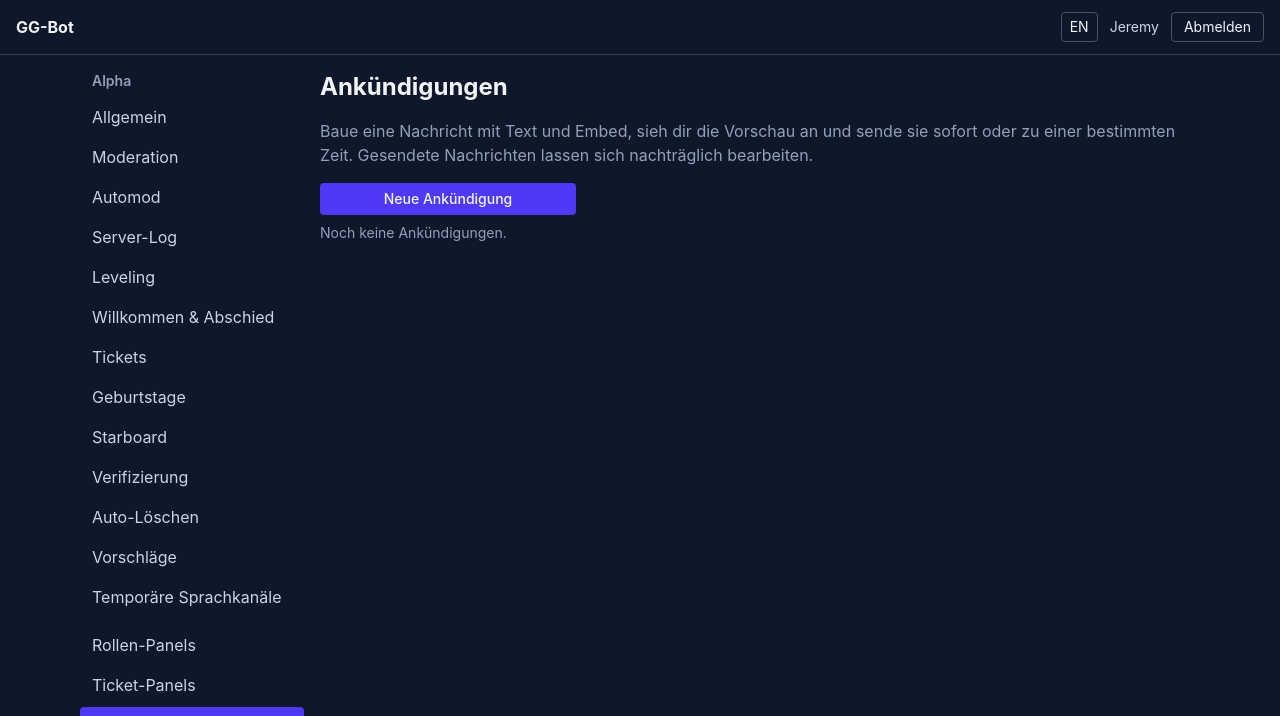
Ankündigungen › sendet ohne Embed, wenn nichts eingetragen ist
The image size is (1280, 716).
Expected: the text "Noch keine Ankündigungen." is shown, [320,224,507,241]
Click the button "Neue Ankündigung" at (448, 199), box [320,183,576,215]
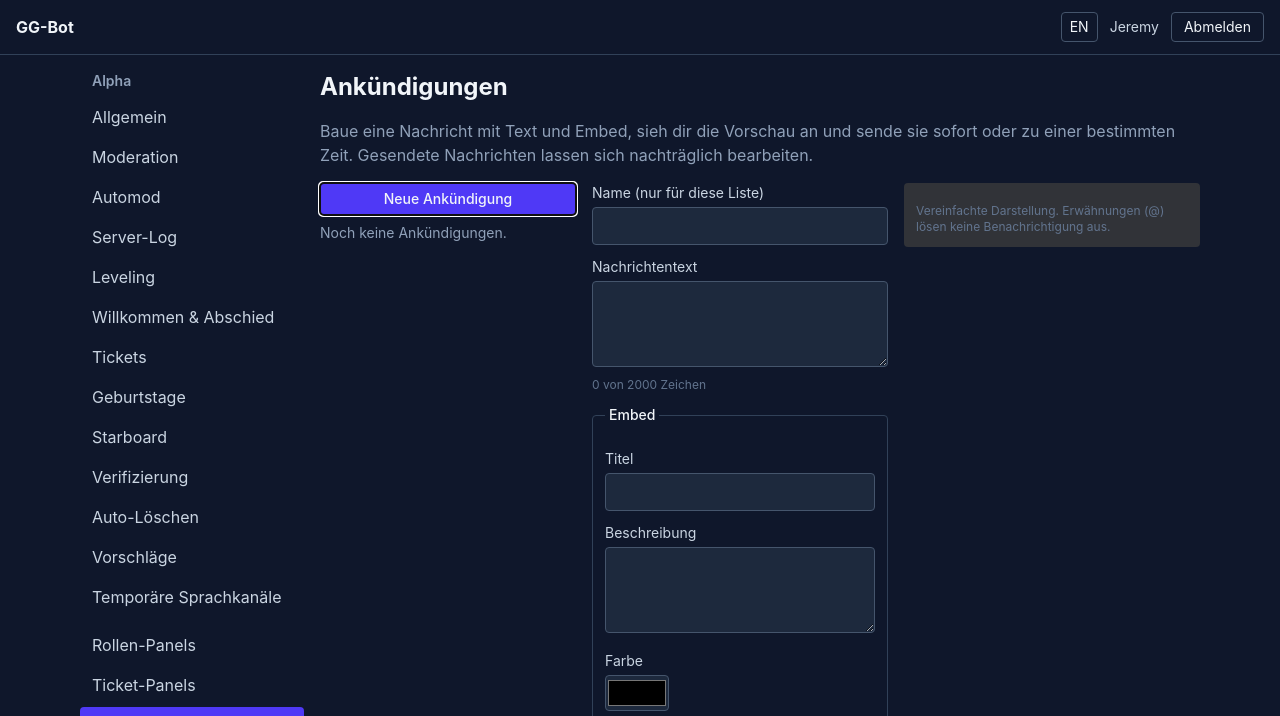
Type "Kurz" into the field labelled "Name (nur für diese Liste)" at (740, 226), box [592,207,888,245]
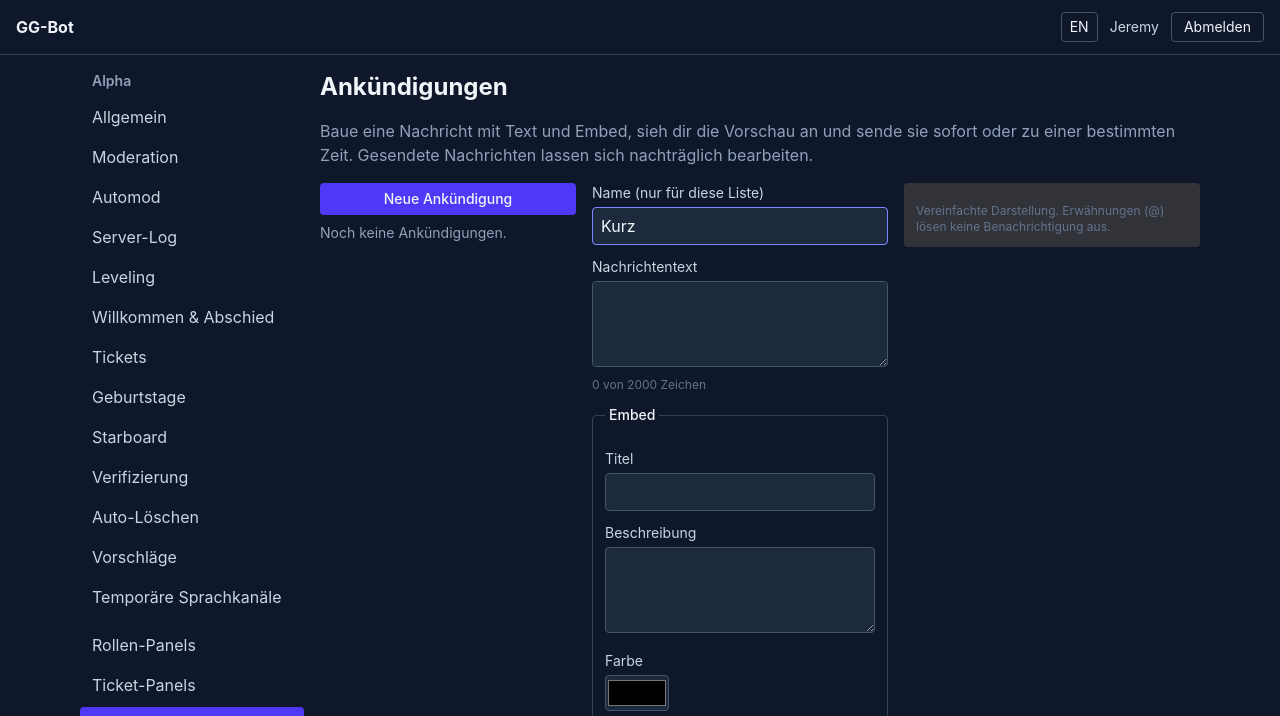
Type "Nur Text" into the text box labelled "Nachrichtentext" at (740, 324), box [592,281,888,367]
(page scrolled)
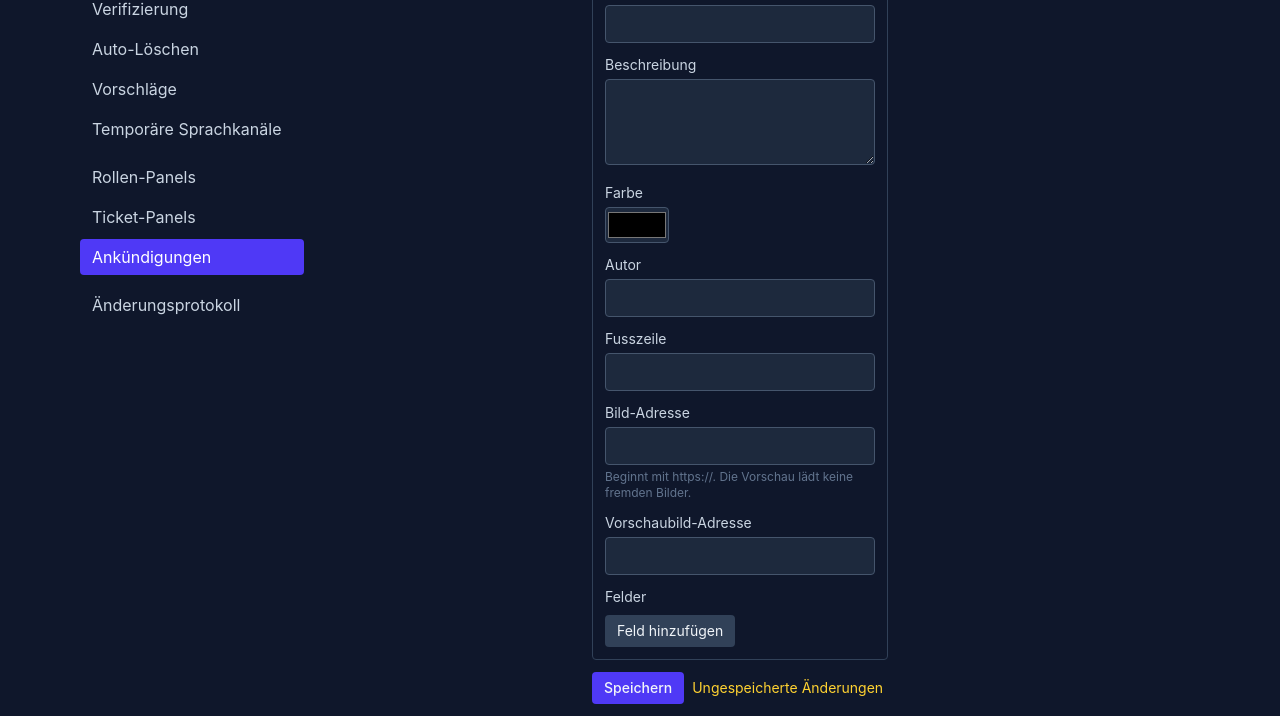
Click the button "Speichern" at (638, 688), box [592,672,684,704]
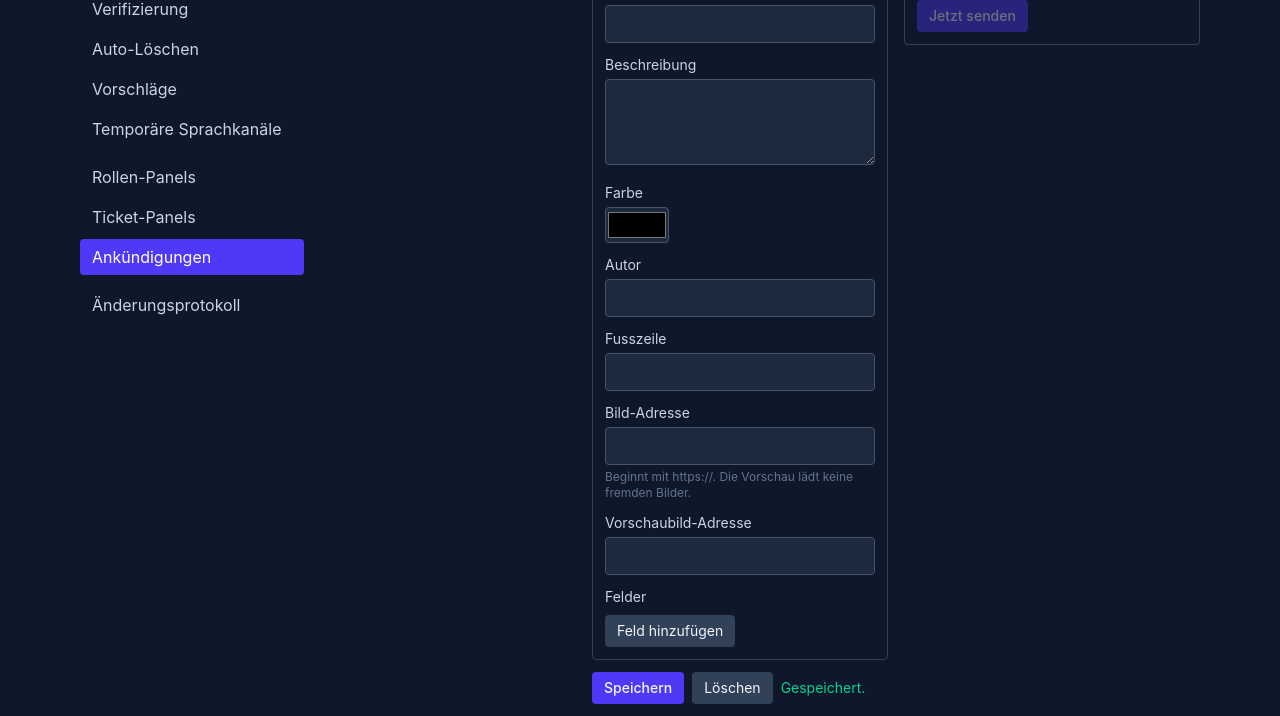
Now the text "Gespeichert." is shown, box [781,678,865,698]
